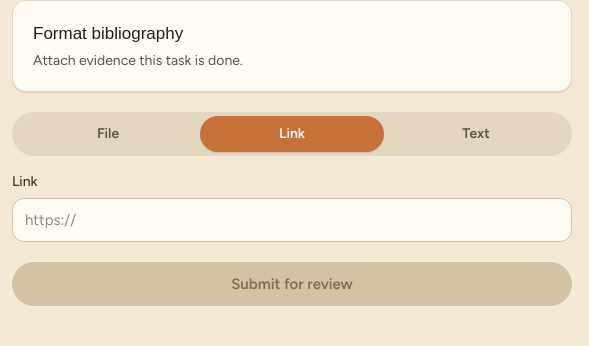
Test case: submit proof page › refuses a javascript: link, flags the field and stays on the page
Type "javascript:alert(1)" into the field labelled "Link" at (292, 220), box left=12, top=198, right=572, bottom=242
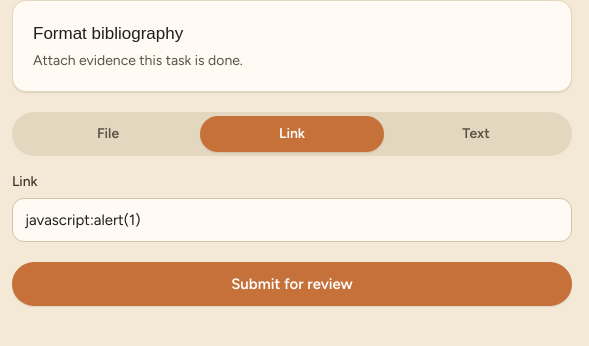
Click the button "Submit for review" at (292, 284), box left=12, top=262, right=572, bottom=306
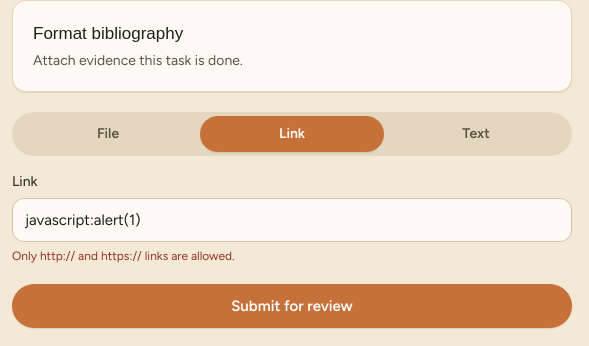
expect the message reads "Only http:// and https:// links are allowed.": met, box left=12, top=249, right=234, bottom=263
